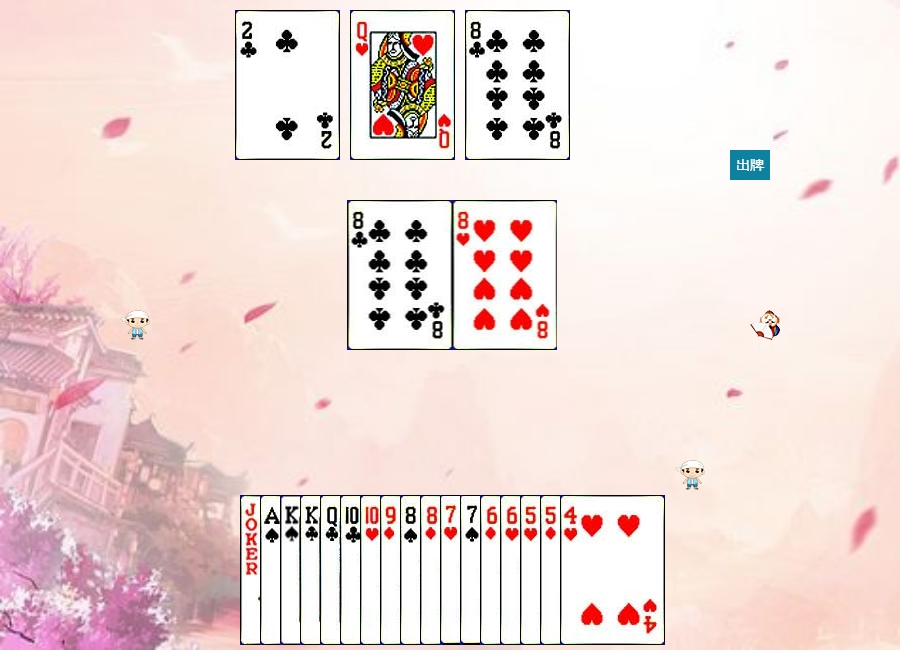10~2: (340, 495, 445, 645)
10~3: (360, 495, 465, 645)
12~2: (320, 495, 425, 645)
12~3: (350, 10, 455, 160)
13~2: (300, 495, 405, 645)
13~4: (280, 495, 385, 645)
14~4: (260, 495, 365, 645)
15~2: (235, 10, 340, 160)
18~4: (240, 495, 345, 645)
4~3: (560, 495, 665, 645)
5~1: (540, 495, 645, 645)
5~3: (520, 495, 625, 645)
6~1: (480, 495, 585, 645)
6~3: (500, 495, 605, 645)
7~3: (440, 495, 545, 645)
7~4: (460, 495, 565, 645)
8~1: (420, 495, 525, 645)
8~2: (465, 10, 570, 160), (348, 200, 453, 350)
8~3: (453, 200, 558, 350)
8~4: (400, 495, 505, 645)
9~1: (380, 495, 485, 645)
